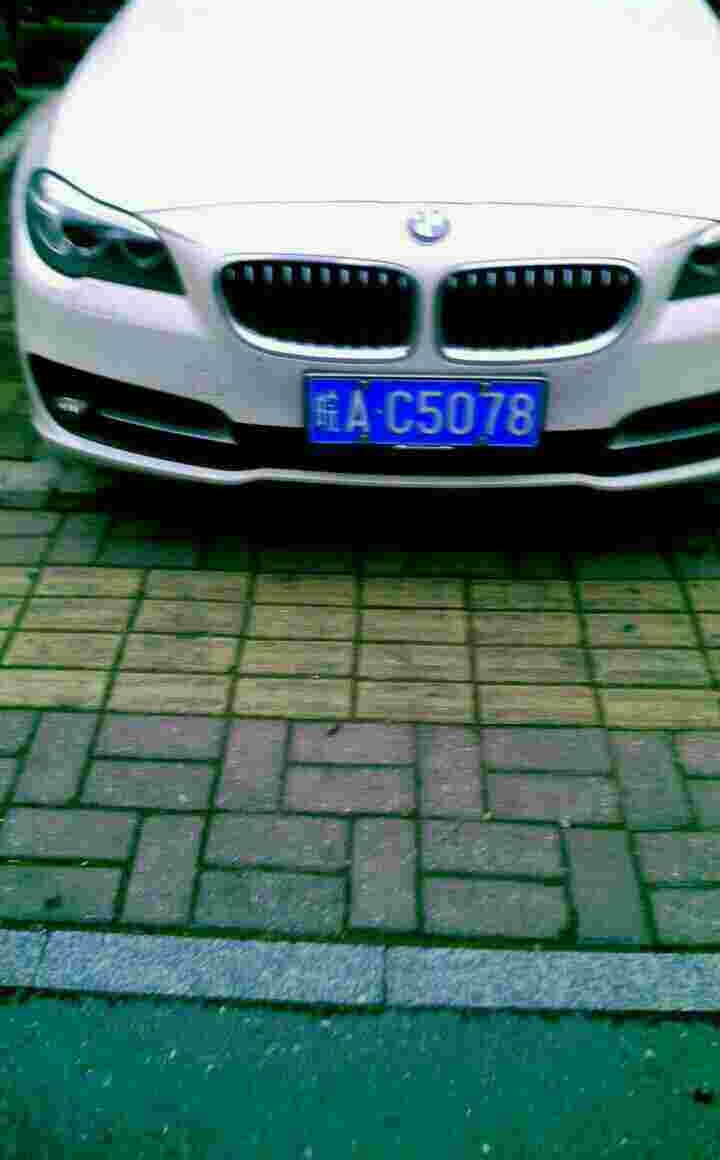license_plate: (304, 372, 549, 458)
